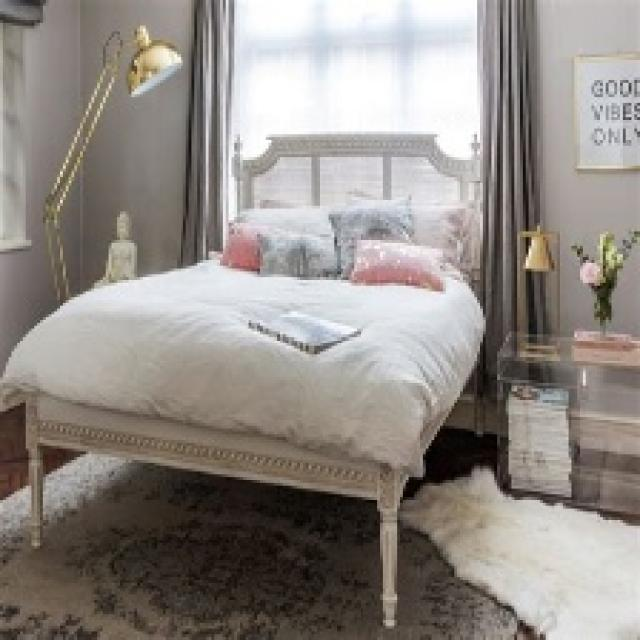Bed: (0, 128, 486, 626)
